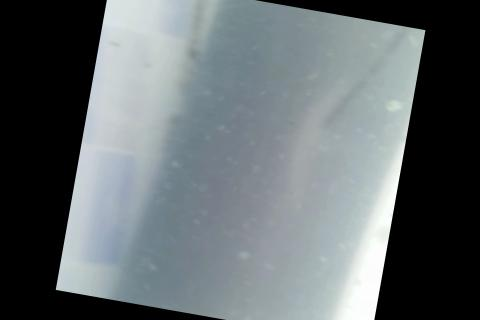keretakan: (310, 13, 425, 146)
